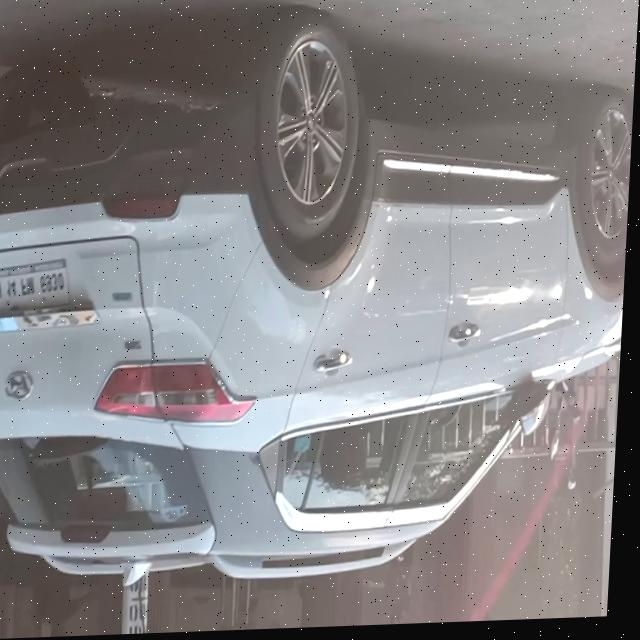plate: (0, 258, 74, 320)
